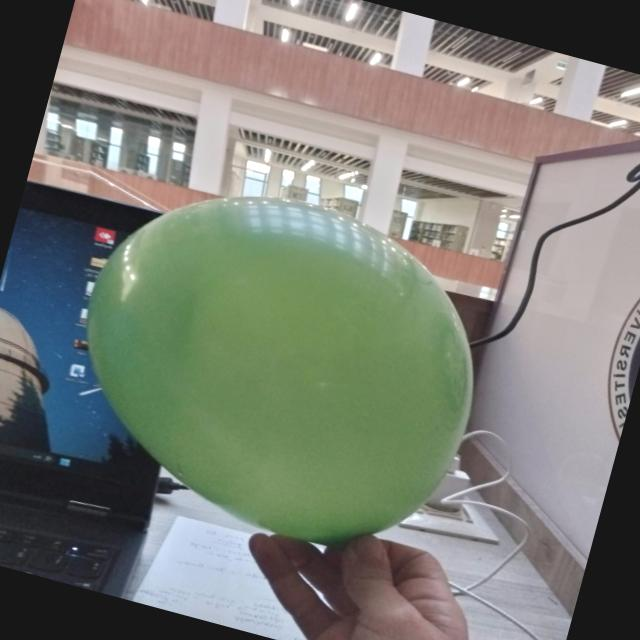balloon: (87, 197, 473, 544)
